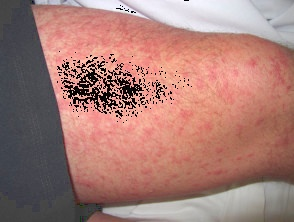SJS-TEN: (37, 0, 294, 202)
